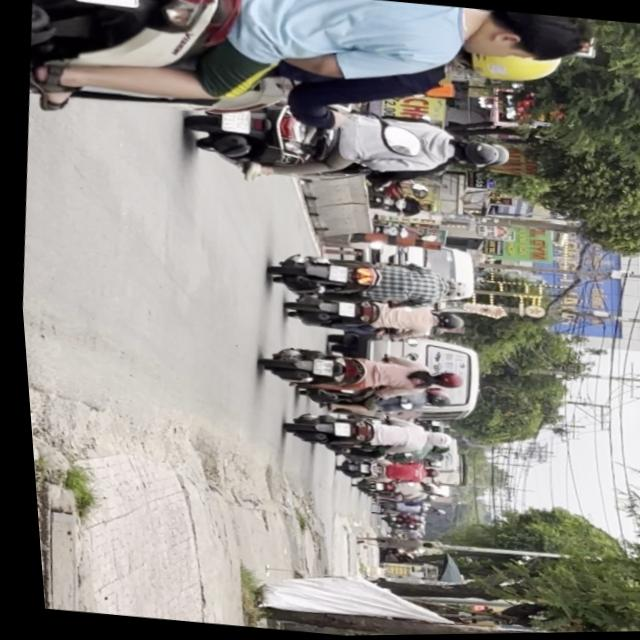helmet: (447, 47, 563, 89), (437, 137, 501, 170), (424, 368, 462, 390), (441, 279, 473, 300)
licenseplate: (24, 0, 596, 166), (174, 86, 518, 208), (263, 247, 477, 315), (252, 338, 464, 406)
motorcyclist: (463, 7, 587, 68), (441, 279, 473, 300)
nohelmet: (217, 107, 250, 133), (66, 0, 142, 8), (323, 263, 346, 281), (306, 358, 329, 376)
